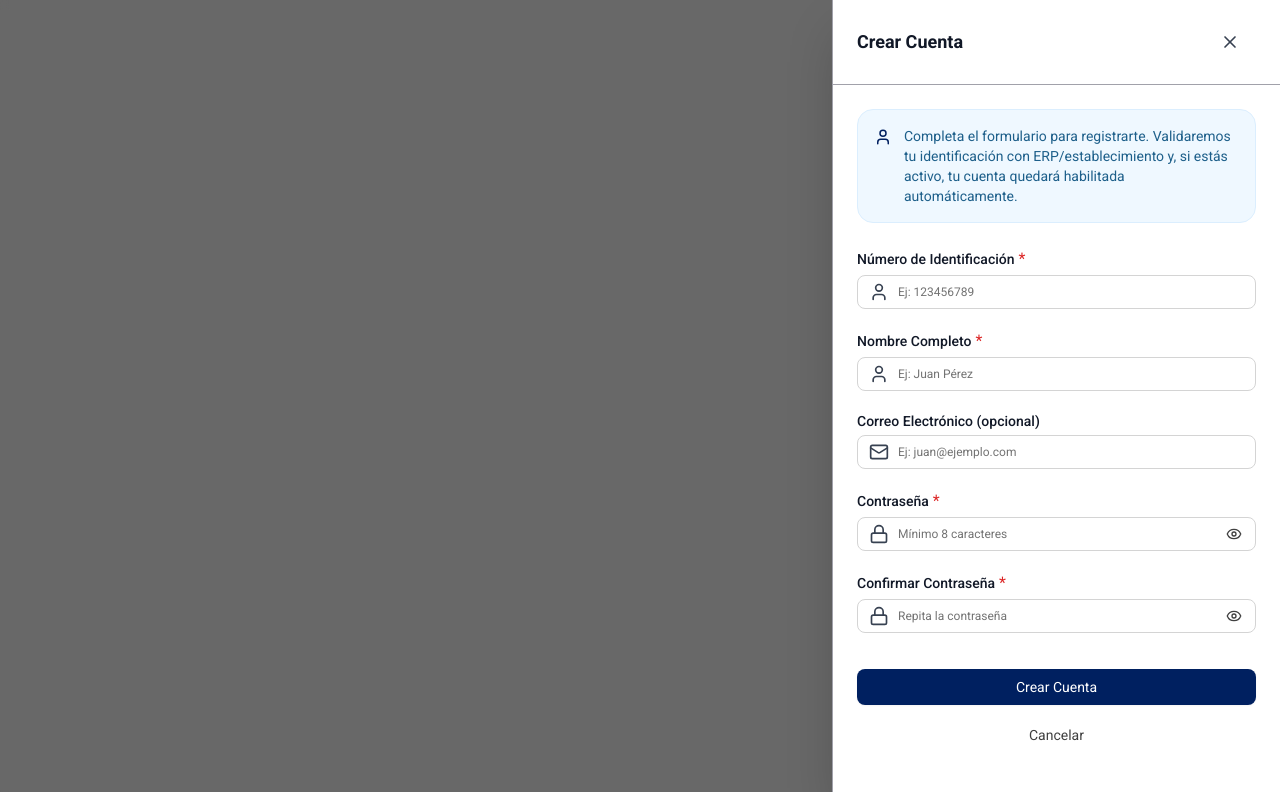
Test: RegisterSidebar › aplana detail de FastAPI para errores 400
In the field with placeholder "Ej: 123456789": (1056,292) [857,275,1256,309], type "123456789"
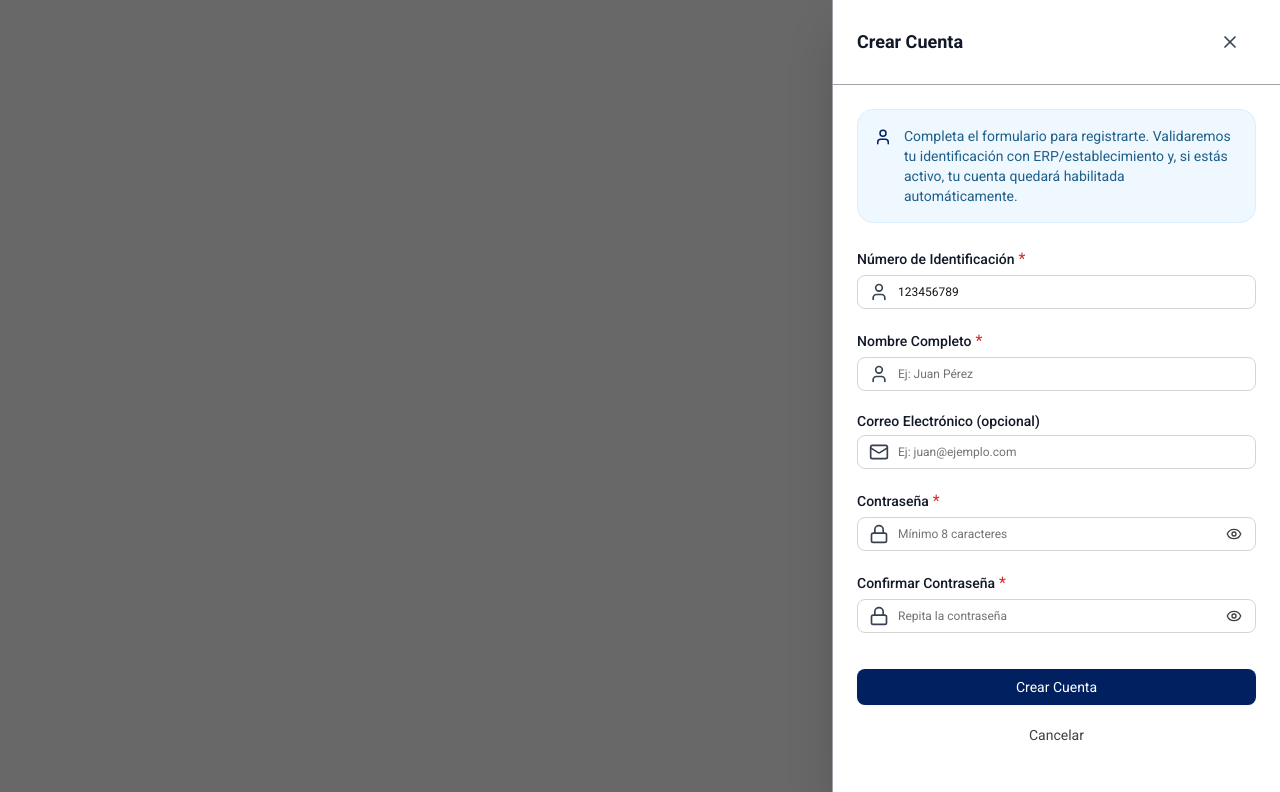
In the field with placeholder "Ej: Juan Pérez": (1056,374) [857,357,1256,391], type "Juan Pérez"
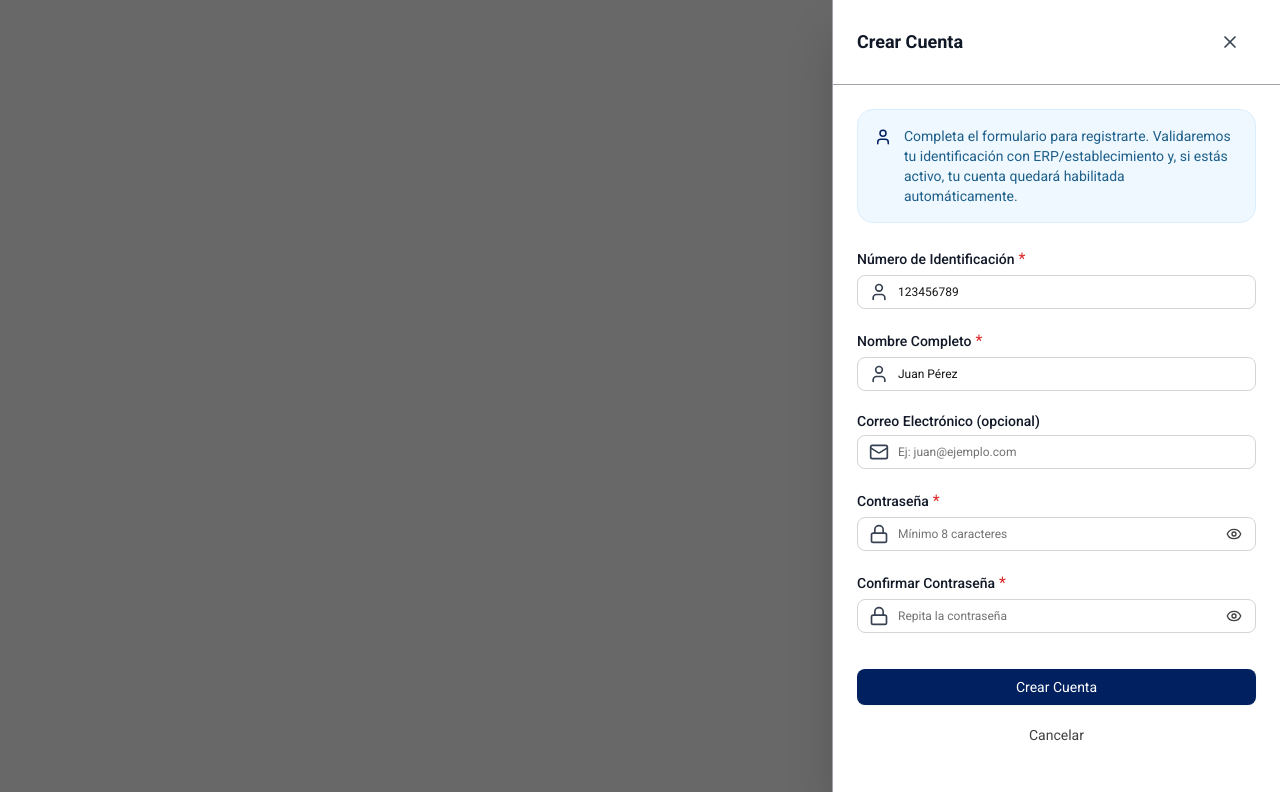
In the password field with placeholder "Mínimo 8 caracteres": (1056,534) [857,517,1256,551], type "ClaveSegura123"
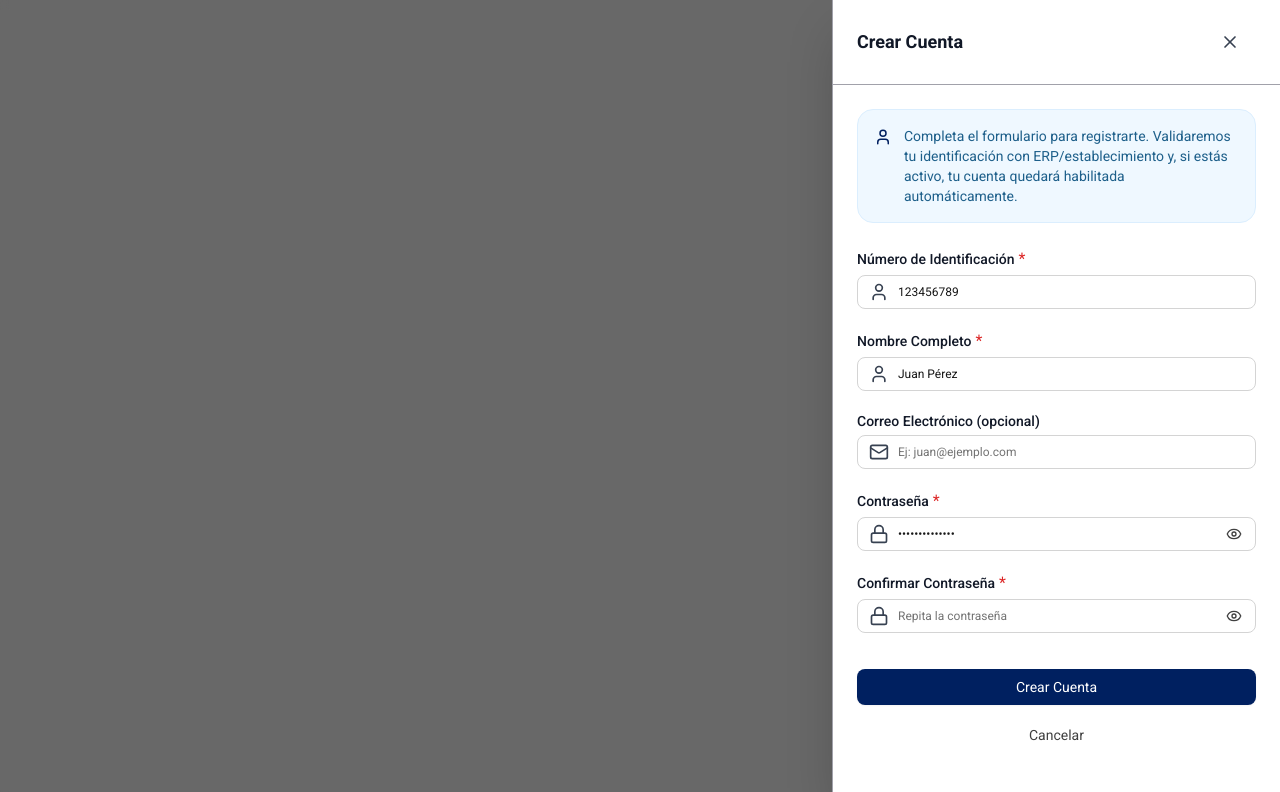
In the password field with placeholder "Repita la contraseña": (1056,616) [857,599,1256,633], type "ClaveSegura123"
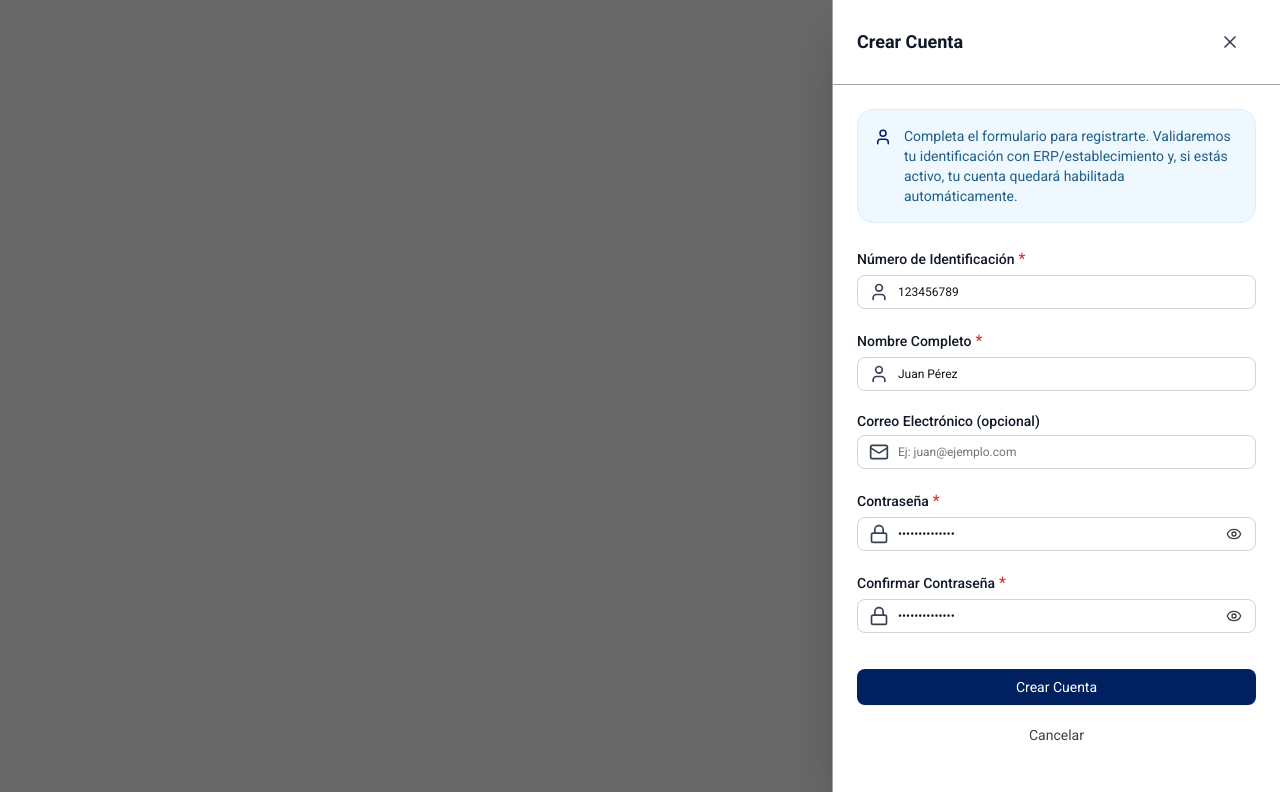
Click the button "Crear Cuenta": (1056,687) [857,669,1256,705]
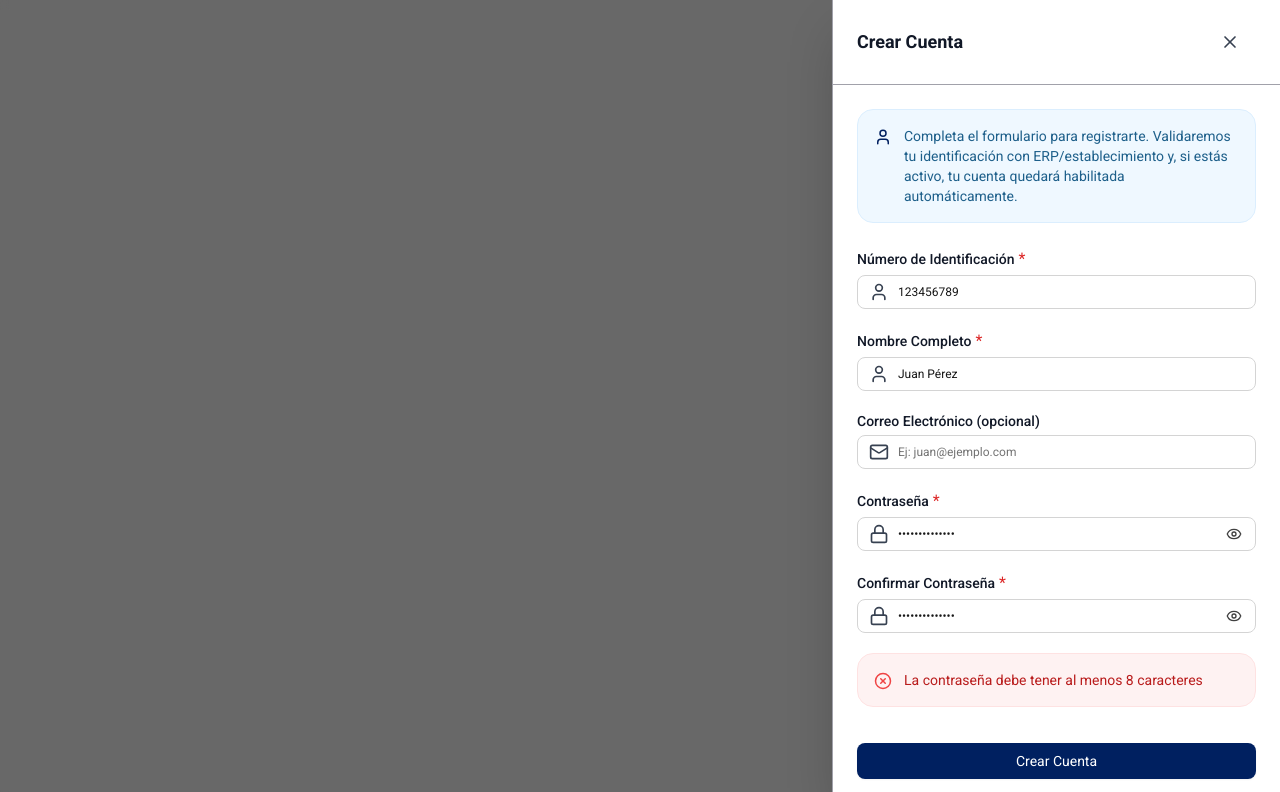
Check: the message reads "La contraseña debe tener al menos 8 caracteres", box [904,672,1203,688]
